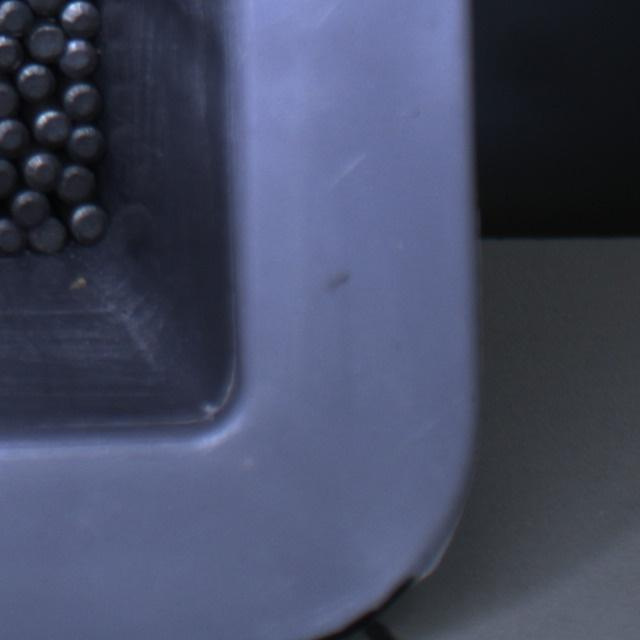tool: (71, 202, 111, 244), (31, 107, 70, 147), (58, 39, 98, 77), (22, 151, 60, 190), (62, 81, 101, 119), (13, 62, 53, 99), (58, 162, 96, 200), (27, 215, 66, 252), (58, 0, 99, 35), (11, 190, 49, 226), (27, 22, 64, 58), (67, 128, 102, 158), (0, 118, 28, 154), (0, 2, 32, 33), (0, 212, 21, 256), (0, 74, 18, 116), (0, 156, 17, 196), (1, 37, 20, 72)
